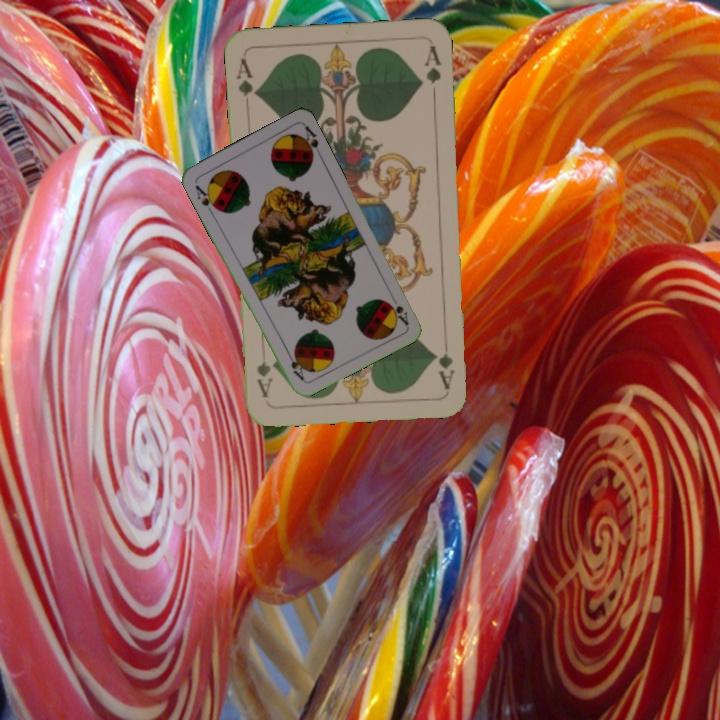GA: (232, 54, 260, 112), (434, 332, 457, 391)
SA: (191, 181, 221, 217), (383, 296, 411, 328)
